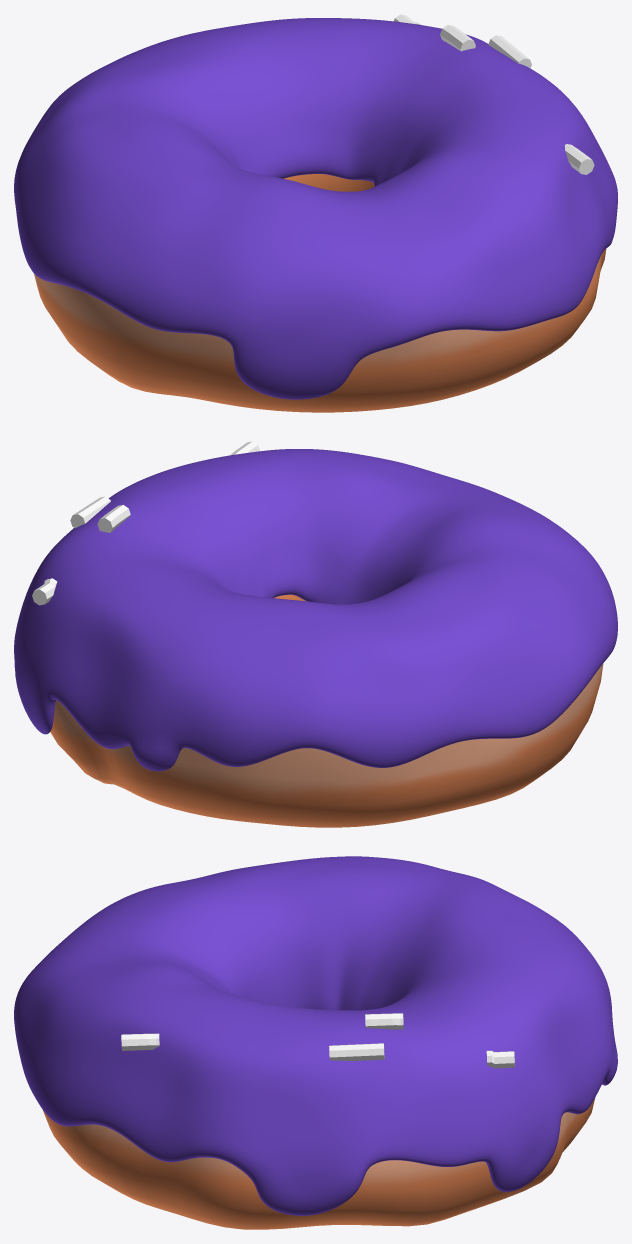
The model's file is Ponchikv11.glb.
3 renders of one model, top to bottom at view 1: azimuth 30°, elevation 25°; view 2: azimuth 150°, elevation 25°; view 3: azimuth 270°, elevation 25°, orthographic. The views are drawn at different scales.
Visible parts, largest first — view 1: icing, Donat, Cylinder.001, Cylinder, Cylinder.003; view 2: icing, Donat, Cylinder.001, Cylinder; view 3: icing, Donat, Cylinder, Cylinder.003, Cylinder.001.
Boxes of the visible parts, box(x1,y1,x2,y2) form: icing: box(14, 18, 617, 399); Donat: box(34, 174, 606, 412); Cylinder.001: box(440, 24, 475, 51); Cylinder: box(488, 35, 531, 68); Cylinder.003: box(564, 144, 594, 174); icing: box(14, 449, 617, 771); Donat: box(50, 594, 603, 827); Cylinder.001: box(97, 505, 130, 532); Cylinder: box(70, 496, 110, 528); icing: box(14, 856, 617, 1215); Donat: box(43, 1098, 594, 1229); Cylinder: box(329, 1043, 384, 1060); Cylinder.003: box(121, 1033, 159, 1050); Cylinder.001: box(365, 1013, 403, 1029).
Bounding box in the file's own units: 0.1116 × 0.0442 × 0.1121.
Materials: 3 (1 with a texture image).
